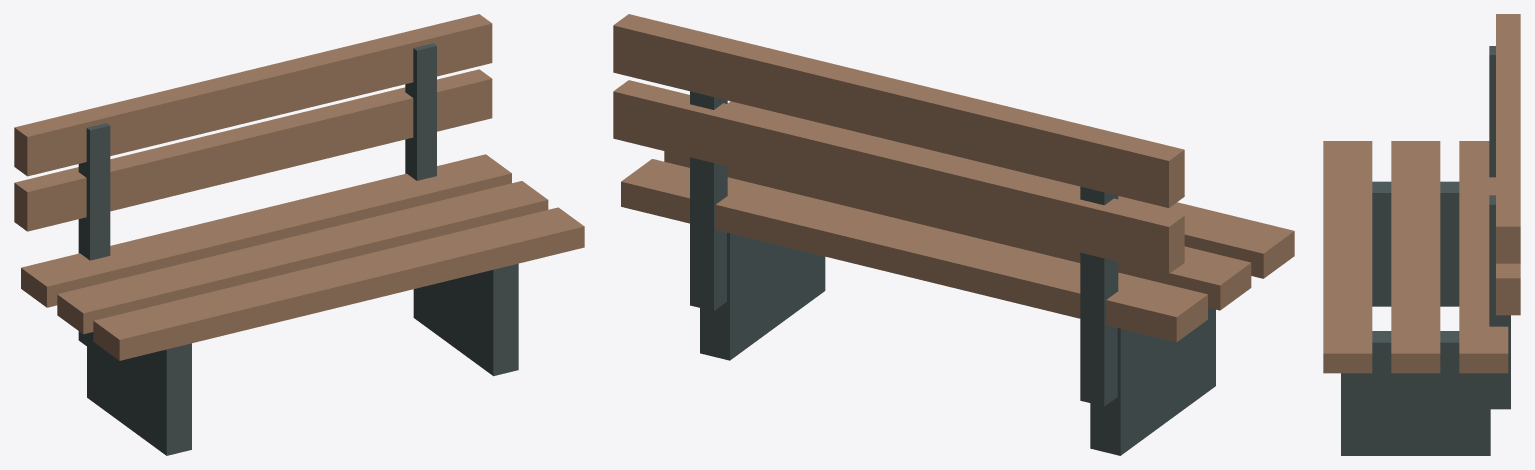
File: sunland_bench.glb
The picture shows the model from 3 angles, left to right: view 1: azimuth 30°, elevation 25°; view 2: azimuth 150°, elevation 25°; view 3: azimuth 270°, elevation 25°; orthographic projection. The views are drawn at different scales.
Visible parts, largest first — view 1: sunland_bench_timber, sunland_bench_metal; view 2: sunland_bench_timber, sunland_bench_metal; view 3: sunland_bench_timber, sunland_bench_metal.
Boxes of the visible parts, x1,y1,x2,y2 form: sunland_bench_timber: (14,14,584,360); sunland_bench_metal: (78,43,518,455); sunland_bench_timber: (613,14,1294,342); sunland_bench_metal: (690,91,1215,455); sunland_bench_timber: (1323,14,1520,373); sunland_bench_metal: (1341,46,1510,455).
Bounding box in the file's own units: 1.85 × 1.03 × 0.725.
